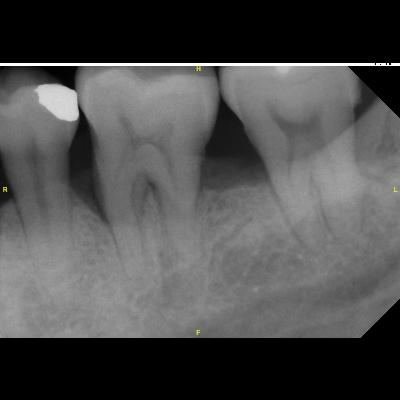tooth: (0, 81, 80, 314)
